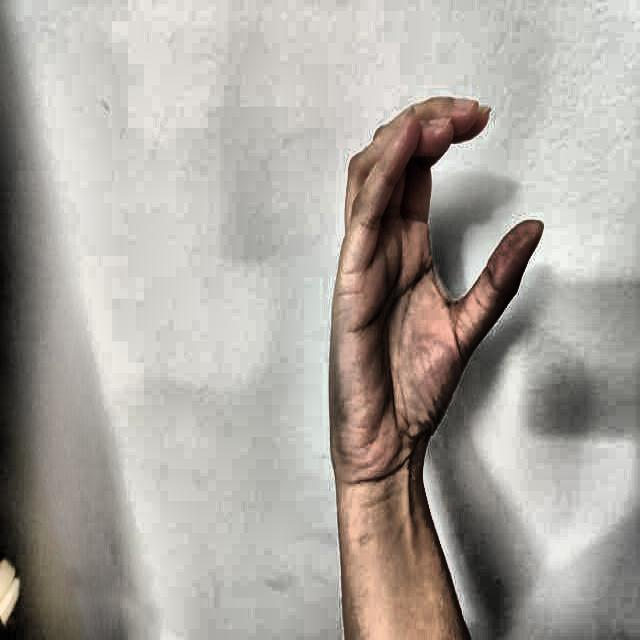A: (313, 70, 565, 510)
